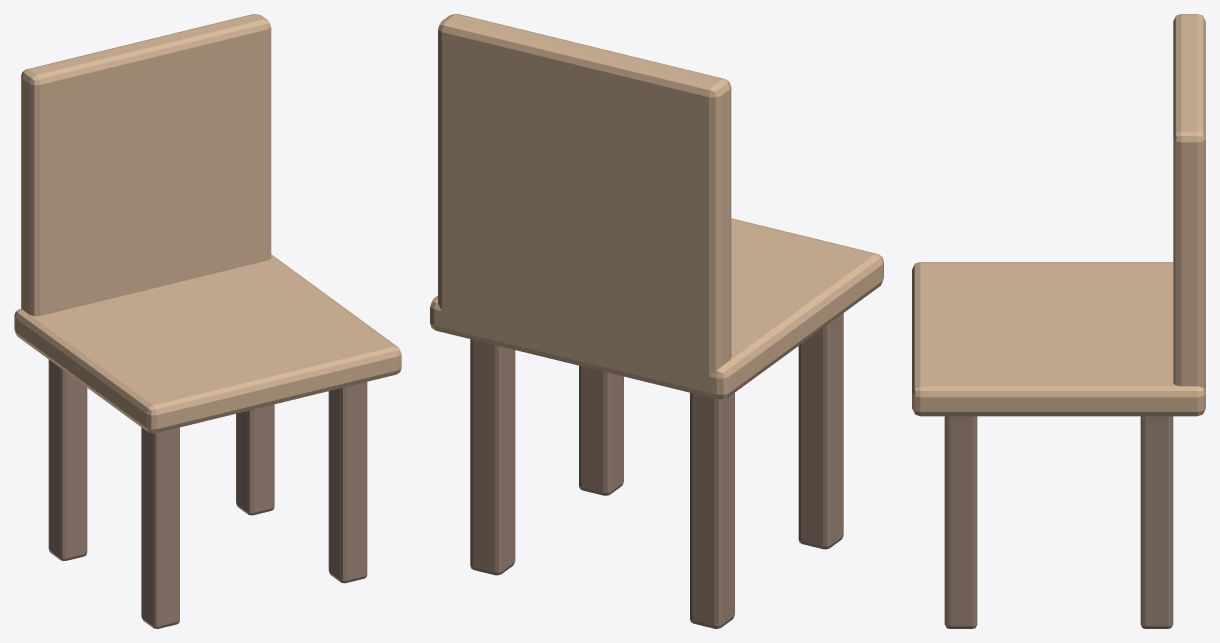
File: child_chair_plain.glb
3 views of the same model, side by side, from view 1: azimuth 30°, elevation 25°; view 2: azimuth 150°, elevation 25°; view 3: azimuth 270°, elevation 25° (orthographic). The views are drawn at different scales.
Parts seen in each view (by area): view 1: Back.002, Seat.001, Leg.015, Leg.013, Leg.012, Leg.014; view 2: Back.002, Seat.001, Leg.014, Leg.012, Leg.013, Leg.015; view 3: Seat.001, Back.002, Leg.014, Leg.015.
Boxes of the visible parts, x1=… form: Back.002: x1=21, y1=14, x2=271, y2=316; Seat.001: x1=14, y1=254, x2=401, y2=433; Leg.015: x1=328, y1=382, x2=367, y2=583; Leg.013: x1=141, y1=427, x2=179, y2=628; Leg.012: x1=48, y1=360, x2=87, y2=560; Leg.014: x1=236, y1=404, x2=274, y2=515; Back.002: x1=438, y1=14, x2=731, y2=376; Seat.001: x1=430, y1=218, x2=883, y2=399; Leg.014: x1=470, y1=339, x2=515, y2=575; Leg.012: x1=690, y1=393, x2=734, y2=628; Leg.013: x1=798, y1=313, x2=843, y2=549; Leg.015: x1=579, y1=365, x2=623, y2=495; Seat.001: x1=912, y1=262, x2=1205, y2=416; Back.002: x1=1173, y1=14, x2=1205, y2=389; Leg.014: x1=1140, y1=416, x2=1173, y2=628; Leg.015: x1=944, y1=416, x2=977, y2=628.
Bounding box in the file's own units: 0.38 × 0.68 × 0.36.
